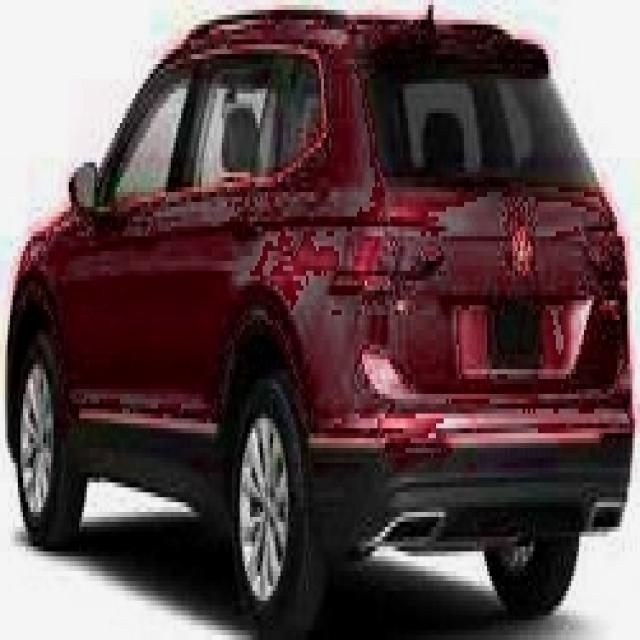maroon: (6, 22, 624, 623)
